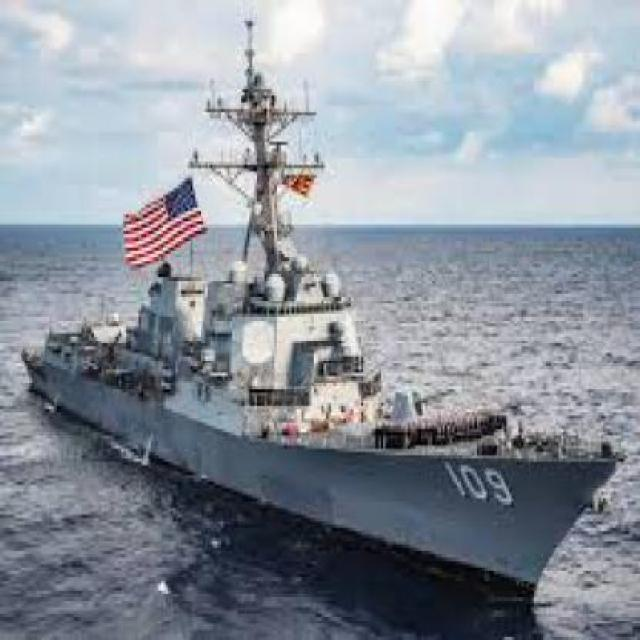warship2: (20, 76, 619, 618)
